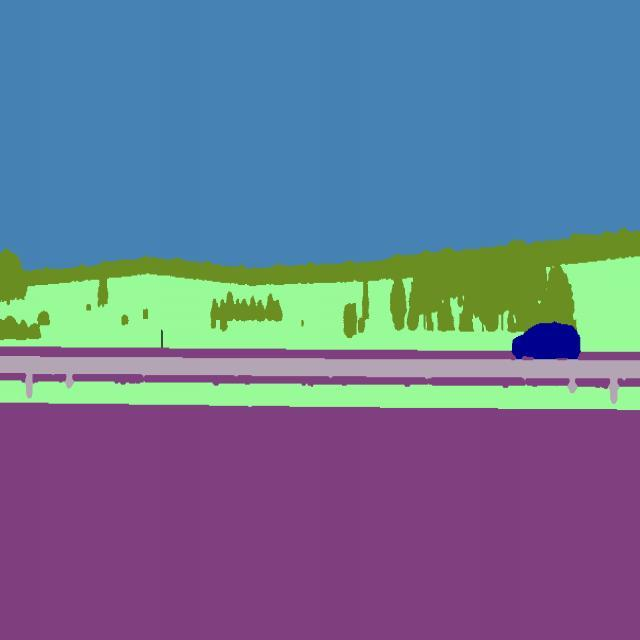safe: (510, 314, 582, 366)
